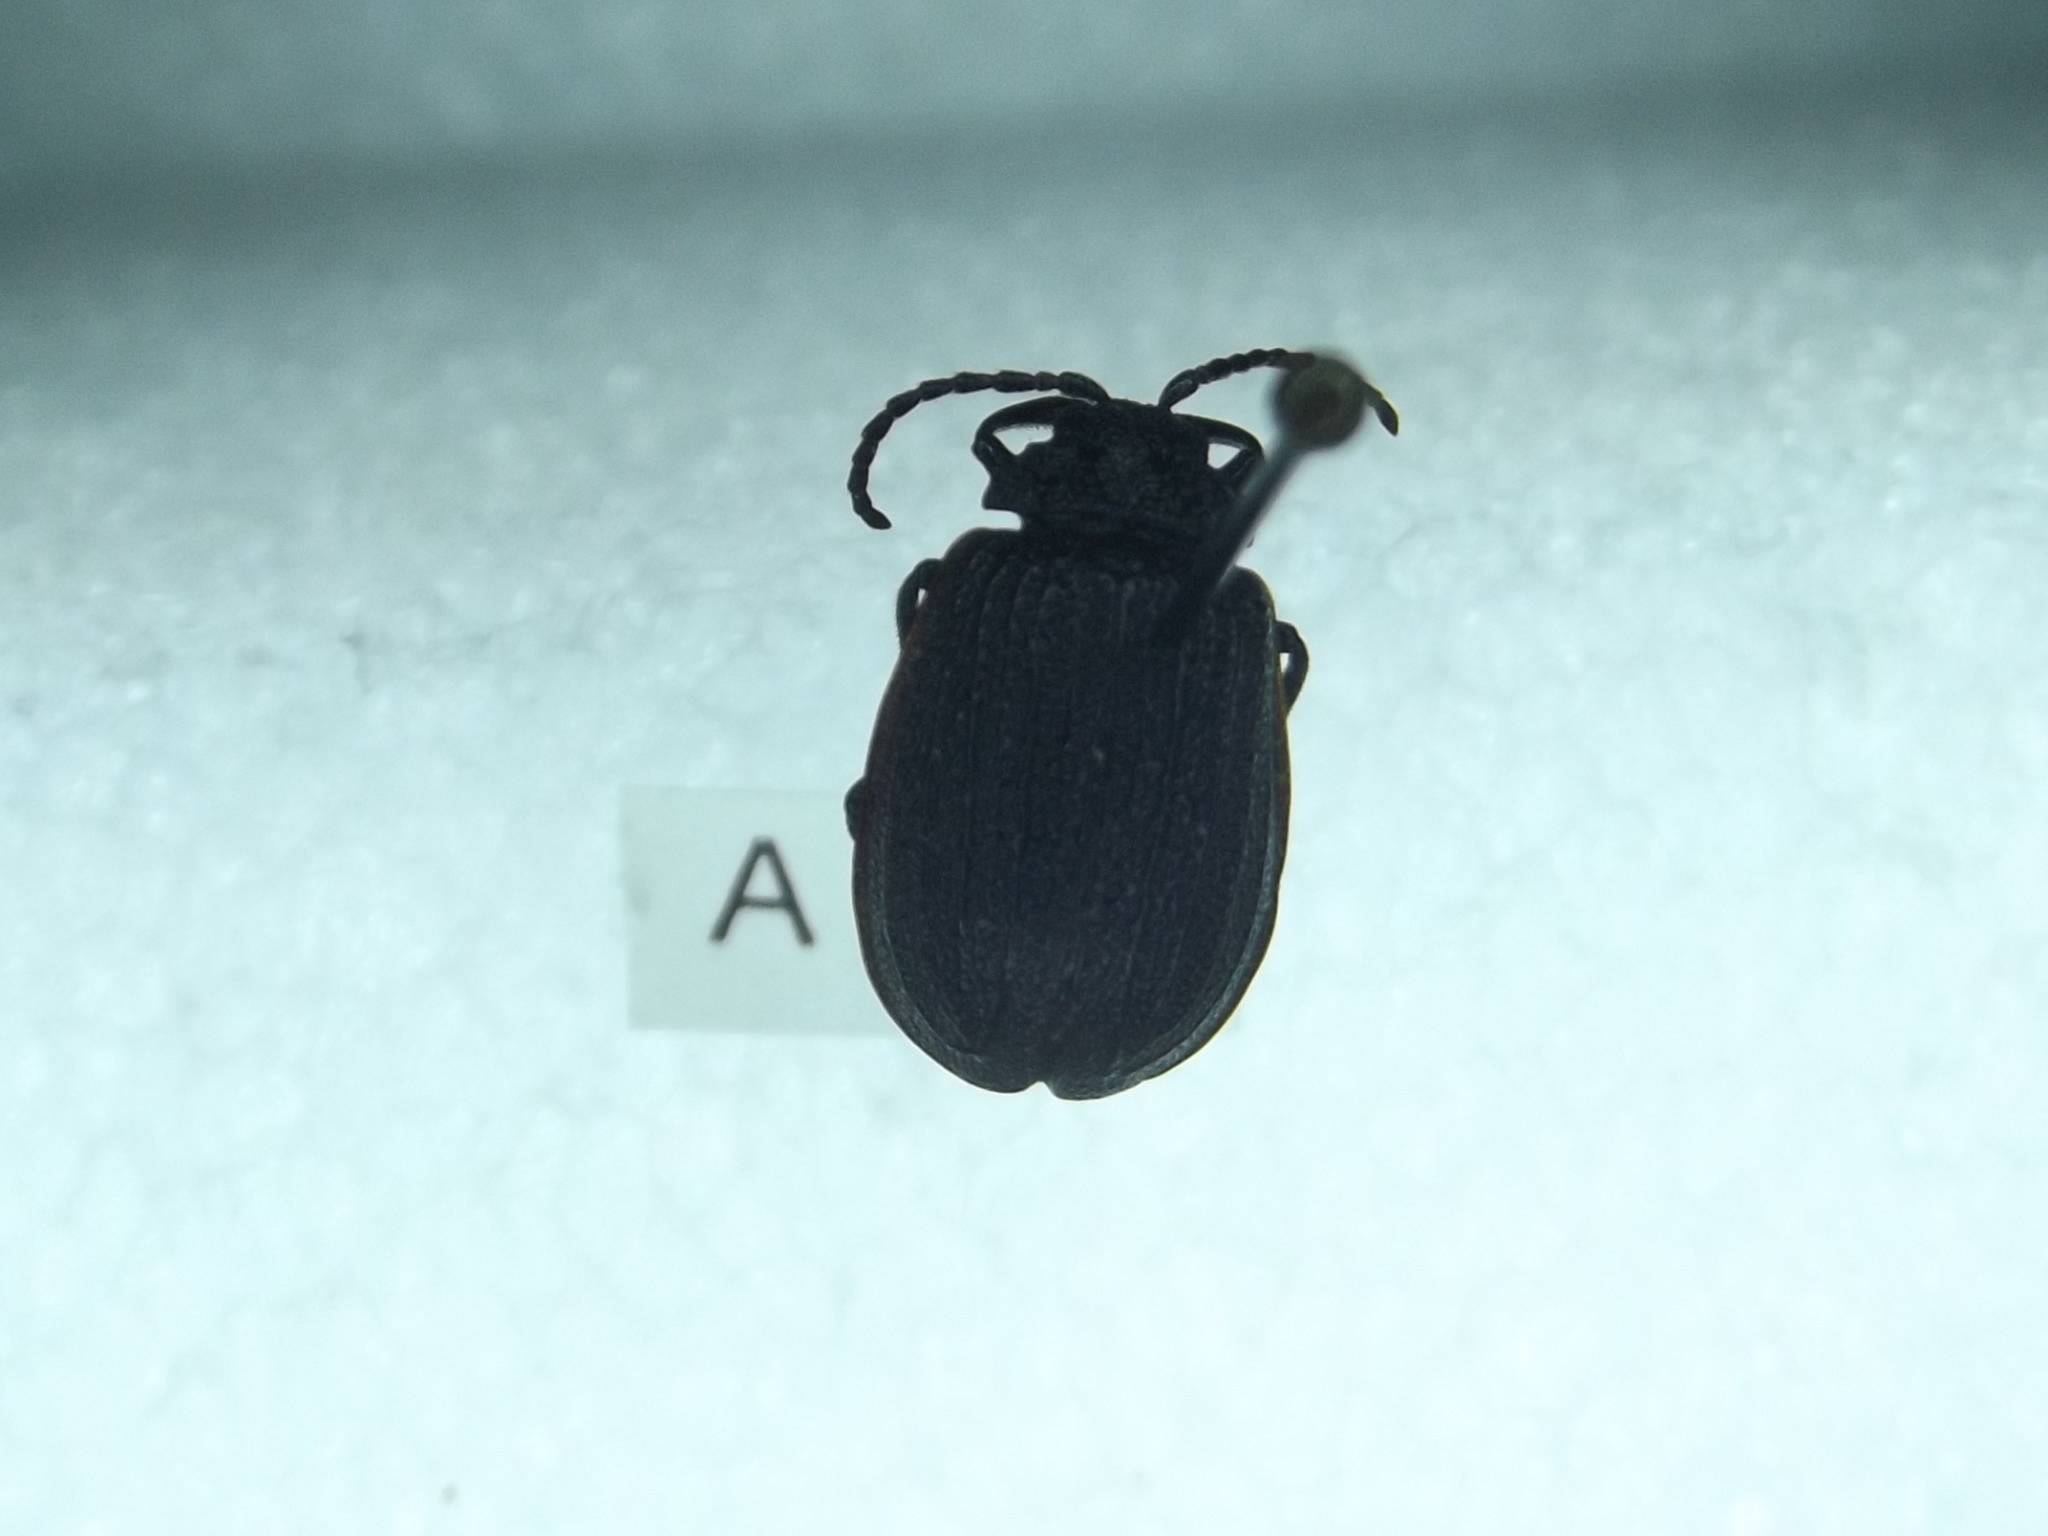Galeruca_tanaceti: (837, 323, 1411, 1118)
